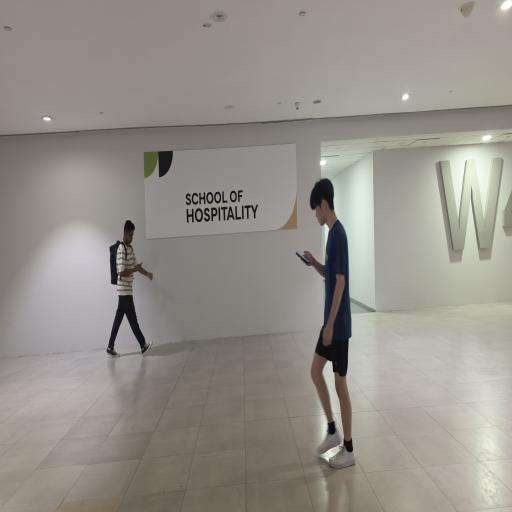person_left: (286, 171, 370, 484)
person_right: (96, 200, 158, 360)
